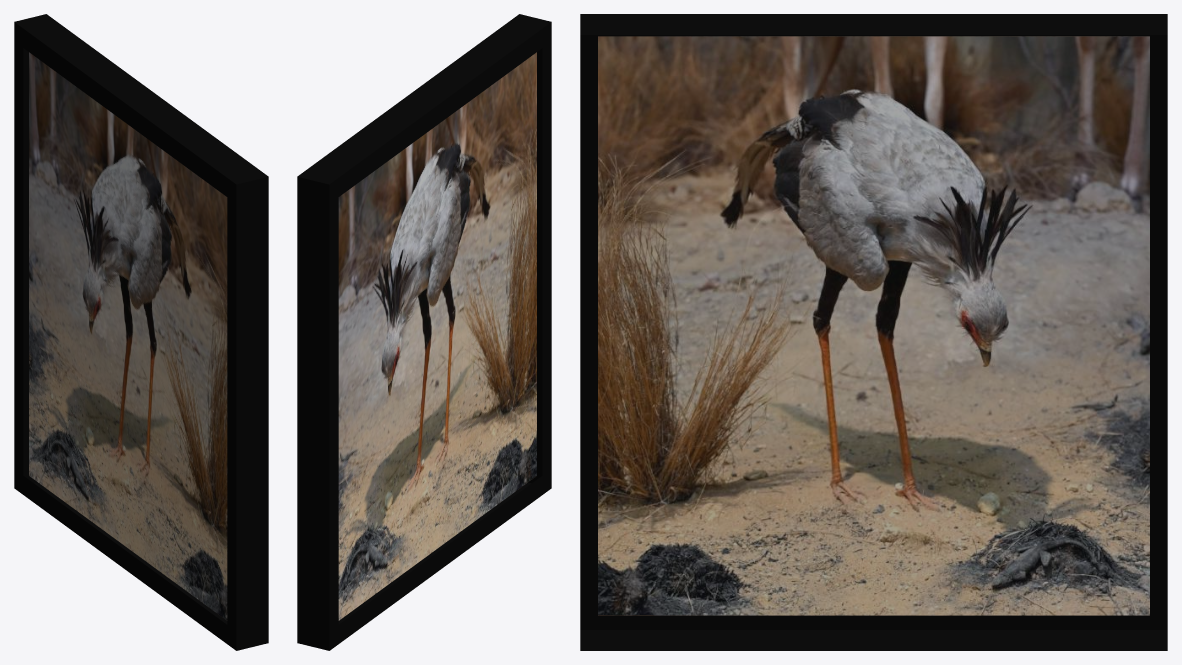
File: painting3.glb
3 views of the same model, side by side, from view 1: azimuth 30°, elevation 25°; view 2: azimuth 150°, elevation 25°; view 3: azimuth 270°, elevation 25° (orthographic). The views are drawn at different scales.
Visible parts, largest first — view 1: Cube.006; view 2: Cube.006; view 3: Cube.006.
Part boxes in pixels (x1,y1,x2,y2): Cube.006: [14, 14, 268, 650]; Cube.006: [297, 14, 551, 650]; Cube.006: [580, 14, 1167, 650].
Bounding box in the file's own units: 0.0996 × 1.37 × 1.19.
Materials: 2 (1 with a texture image).
